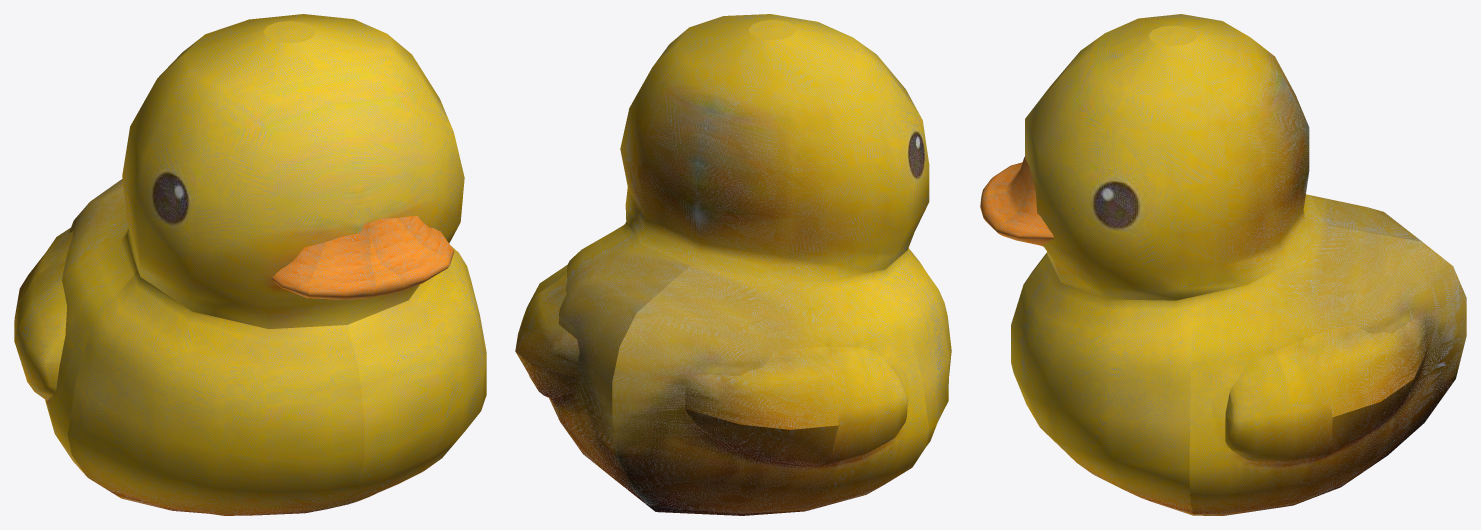
File: rubber_duck.dae
3 views of the same model, side by side, from view 1: azimuth 30°, elevation 25°; view 2: azimuth 150°, elevation 25°; view 3: azimuth 270°, elevation 25° (orthographic). The views are drawn at different scales.
Visible parts, largest first — view 1: group_8 (×2), group_1, Group396_1 (×2), group_9, group_4, group_6, group_2; view 2: group_1, group_9 (×2), group_6 (×2), group_4, group_8, group_7 (×2), group_2; view 3: group_1, group_9 (×2), group_8, group_4, group_6, Group396_1 (×2), group_7, group_2.
Boxes of the visible parts, x1=… form: group_8 (×2): x1=68, y1=246, x2=486, y2=515; group_1: x1=122, y1=14, x2=464, y2=328; Group396_1 (×2): x1=271, y1=215, x2=454, y2=299; group_9: x1=45, y1=179, x2=136, y2=476; group_4: x1=14, y1=254, x2=66, y2=400; group_6: x1=14, y1=227, x2=73, y2=317; group_2: x1=263, y1=21, x2=315, y2=43; group_1: x1=620, y1=14, x2=929, y2=279; group_9 (×2): x1=549, y1=222, x2=928, y2=515; group_6 (×2): x1=515, y1=274, x2=838, y2=429; group_4: x1=818, y1=346, x2=907, y2=466; group_8: x1=871, y1=248, x2=951, y2=446; group_7 (×2): x1=516, y1=352, x2=838, y2=466; group_2: x1=748, y1=20, x2=796, y2=40; group_1: x1=1025, y1=14, x2=1324, y2=300; group_9 (×2): x1=1189, y1=195, x2=1466, y2=515; group_8: x1=1011, y1=254, x2=1194, y2=515; group_4: x1=1225, y1=337, x2=1332, y2=463; group_6: x1=1311, y1=318, x2=1427, y2=416; Group396_1 (×2): x1=980, y1=156, x2=1053, y2=246; group_7: x1=1331, y1=349, x2=1427, y2=453; group_2: x1=1148, y1=25, x2=1197, y2=45.
Size of the model in its own units: 1345 by 1483 by 1399.
Materials: 3 (2 with a texture image).
